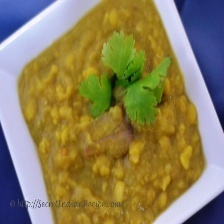dal: (16, 0, 206, 224)
